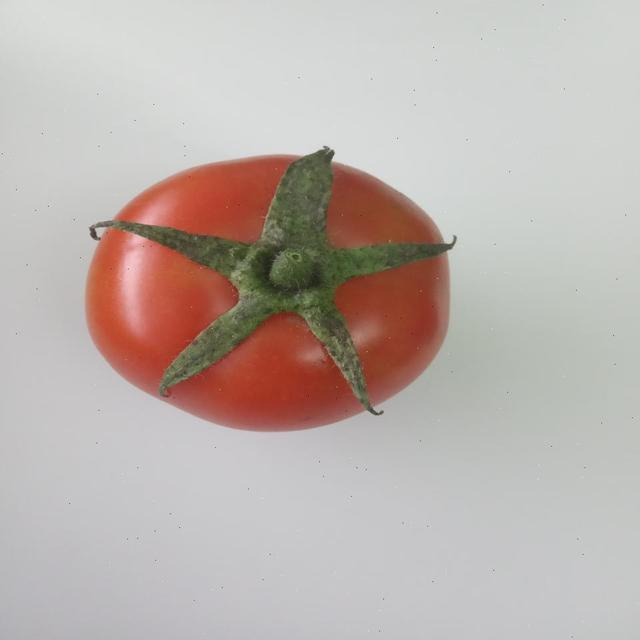Healthy Fruit: (53, 97, 308, 291)
